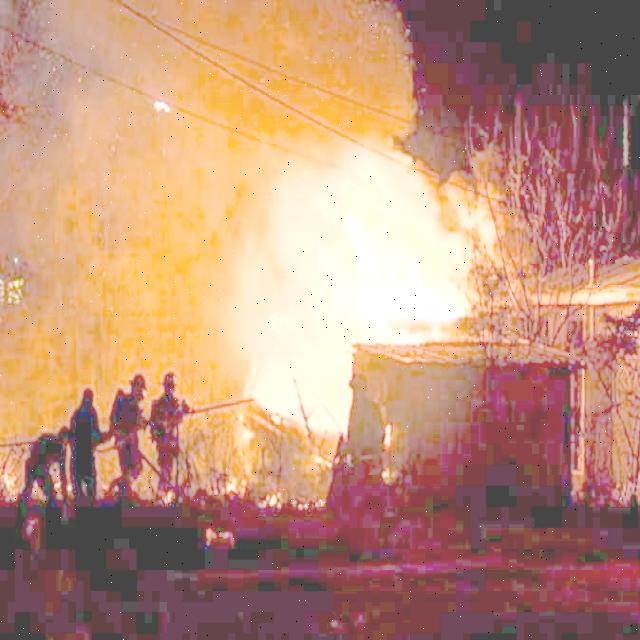api: (296, 199, 456, 346), (183, 433, 347, 494)
asap: (21, 155, 253, 389), (59, 3, 407, 143)
